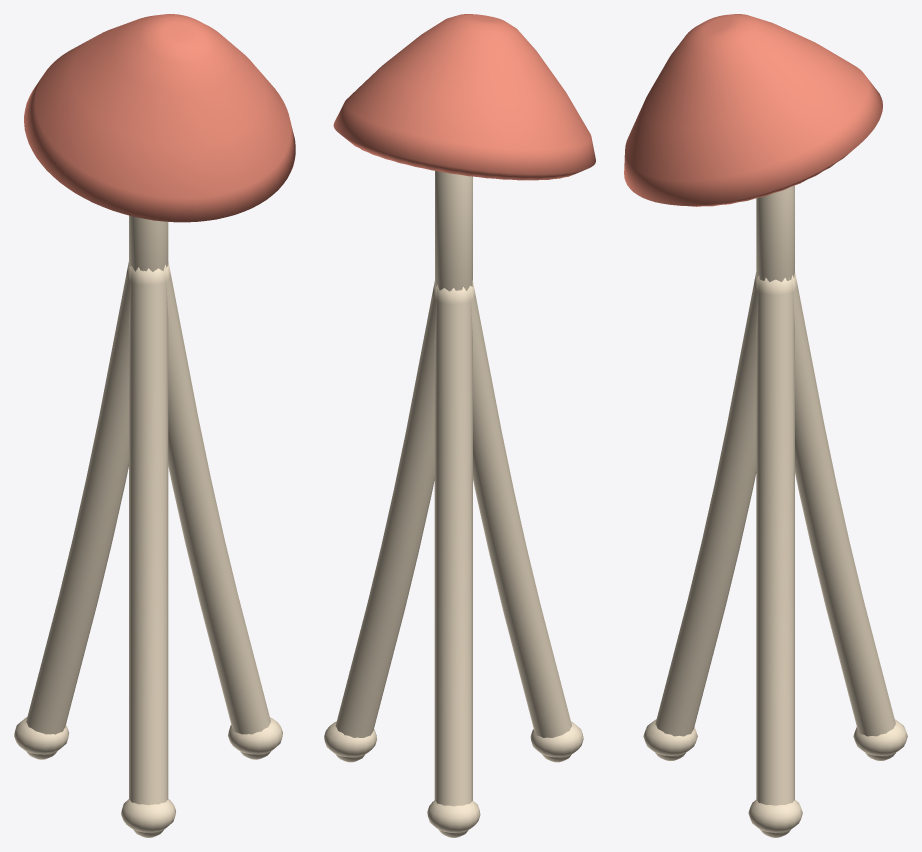
The model's file is floor_lamp_b.glb.
3 renders of one model, left to right at view 1: azimuth 30°, elevation 25°; view 2: azimuth 150°, elevation 25°; view 3: azimuth 270°, elevation 25°, orthographic. The views are drawn at different scales.
Visible parts, largest first — view 1: body; view 2: body; view 3: body.
Boxes of the visible parts, left/top/right/bottom form: body: left=14, top=14, right=295, bottom=837; body: left=324, top=14, right=595, bottom=837; body: left=624, top=14, right=907, bottom=837.
Size of the model in its own units: 0.4672 by 1.39 by 0.4683.
